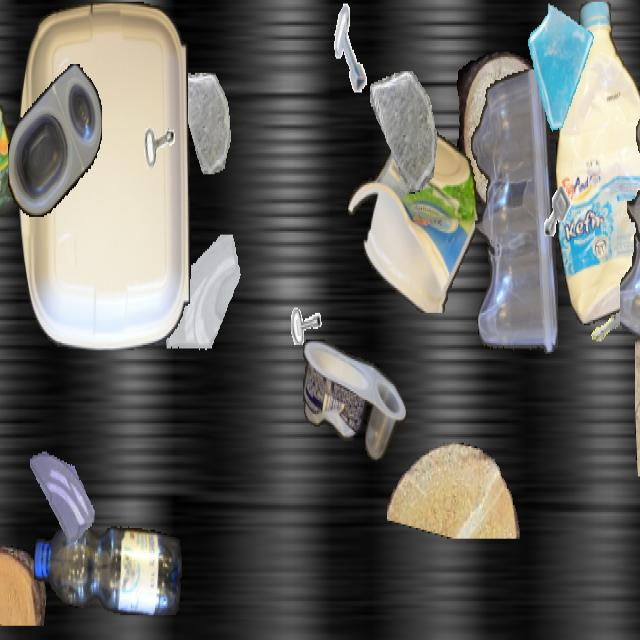glass: (164, 234, 246, 380), (524, 2, 598, 133), (370, 71, 438, 192), (30, 441, 94, 555), (176, 73, 232, 172)
metal: (125, 73, 185, 179), (574, 271, 632, 374), (326, 2, 378, 94), (281, 265, 325, 343), (536, 174, 578, 249)
plastic: (18, 2, 190, 350), (556, 2, 640, 325), (468, 69, 558, 361), (348, 124, 478, 313), (8, 64, 102, 217), (34, 519, 182, 615), (303, 340, 405, 460), (620, 73, 640, 357), (0, 21, 18, 235)
wood: (454, 52, 550, 212), (387, 442, 523, 538), (0, 546, 47, 624), (635, 338, 640, 476)
